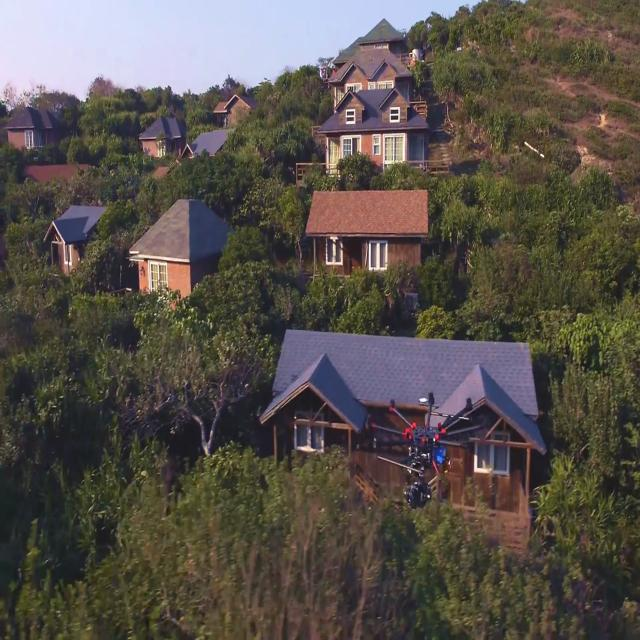drone: (349, 361, 484, 509)
